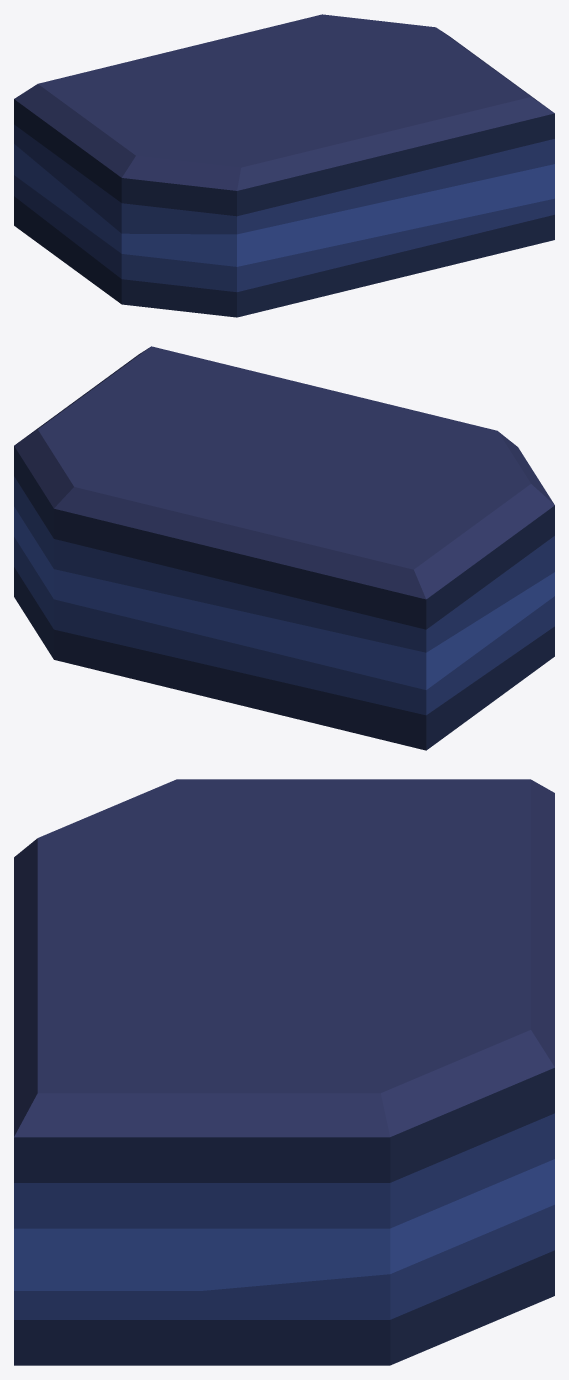
Rendered from StoneWall023.fbx.
The picture shows the model from 3 angles, top to bottom: view 1: azimuth 30°, elevation 25°; view 2: azimuth 150°, elevation 25°; view 3: azimuth 270°, elevation 25°; orthographic projection. The views are drawn at different scales.
Visible parts, largest first — view 1: StoneWall023; view 2: StoneWall023; view 3: StoneWall023.
Boxes of the visible parts, x1,y1,x2,y2 form: StoneWall023: (14, 14, 554, 317); StoneWall023: (14, 346, 554, 750); StoneWall023: (14, 779, 554, 1365).
Size of the model in its own units: 533 by 186 by 354.
